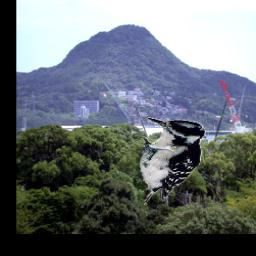Woodpecker: (135, 117, 205, 205)
